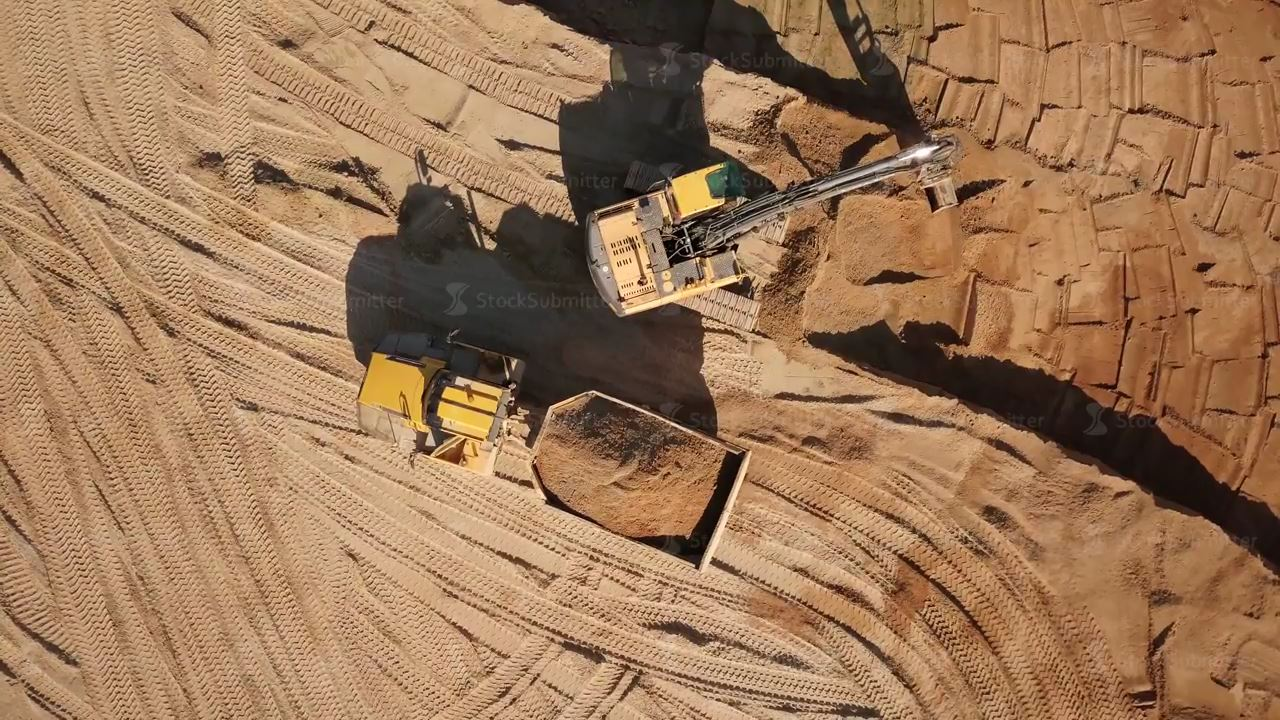con_eq: (343, 317, 757, 577), (579, 124, 968, 320)
